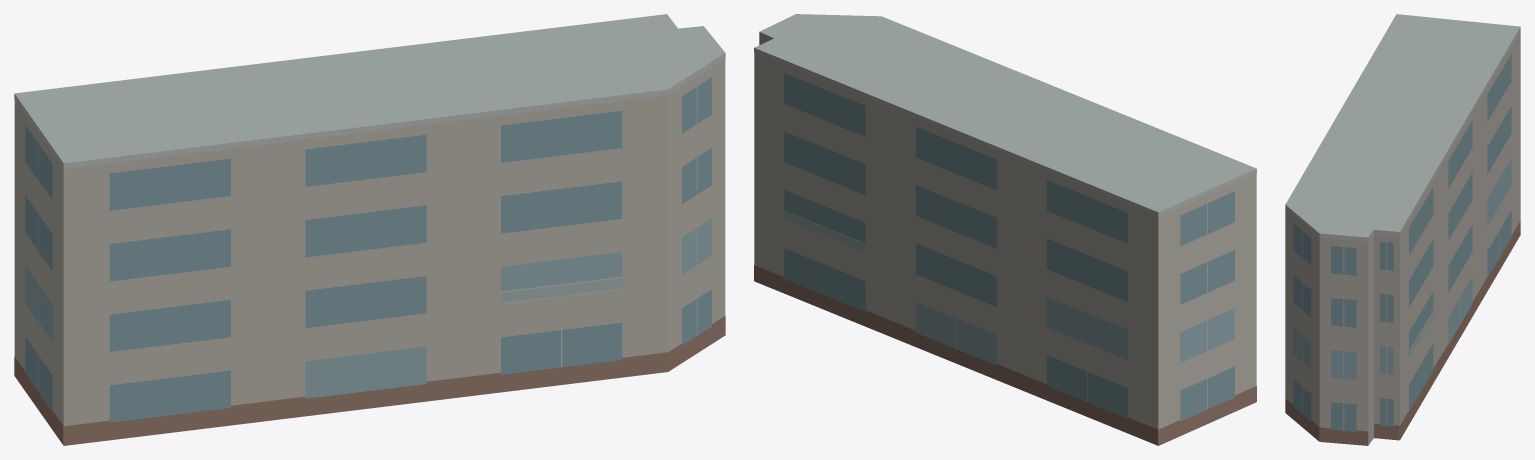
The model's file is survey-upis-32700784.glb.
3 renders of one model, left to right at view 1: azimuth 30°, elevation 25°; view 2: azimuth 150°, elevation 25°; view 3: azimuth 270°, elevation 25°, orthographic. The views are drawn at different scales.
Visible parts, largest first — view 1: survey-upis-32700784.tmp; view 2: survey-upis-32700784.tmp; view 3: survey-upis-32700784.tmp.
Part boxes in pixels (left/top/right/bottom): survey-upis-32700784.tmp: left=14, top=14, right=725, bottom=445; survey-upis-32700784.tmp: left=754, top=14, right=1256, bottom=445; survey-upis-32700784.tmp: left=1285, top=14, right=1520, bottom=445.
Bounding box in the file's own units: 27.61 × 12 × 12.28.
